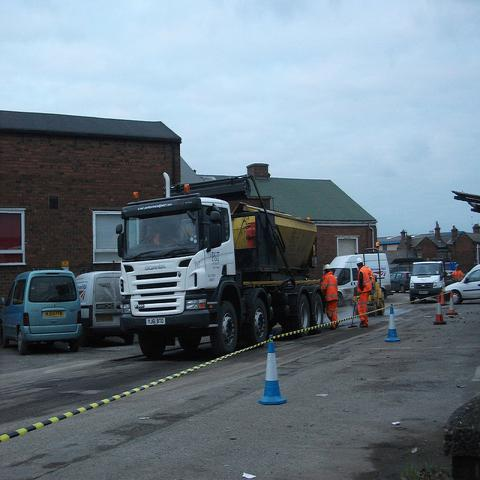car: (1, 264, 412, 345), (16, 279, 84, 355), (76, 271, 134, 349), (443, 263, 479, 305), (445, 261, 456, 283)
truck: (117, 171, 324, 359), (330, 252, 393, 306), (410, 259, 455, 304)
